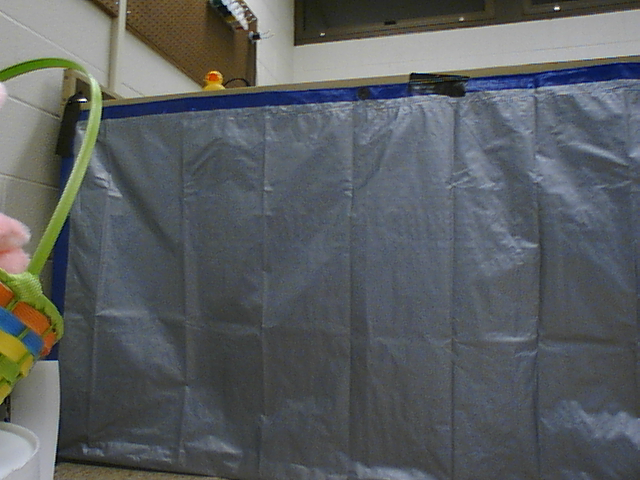bunny: (1, 49, 105, 408)
